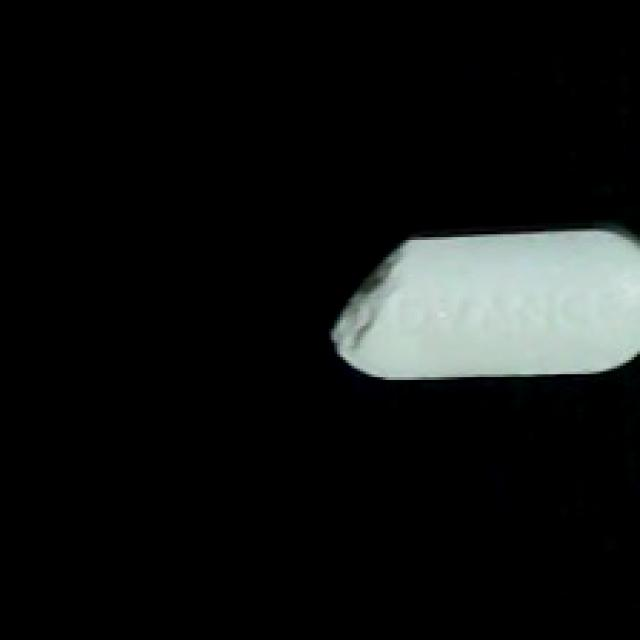defected: (317, 214, 640, 389)
